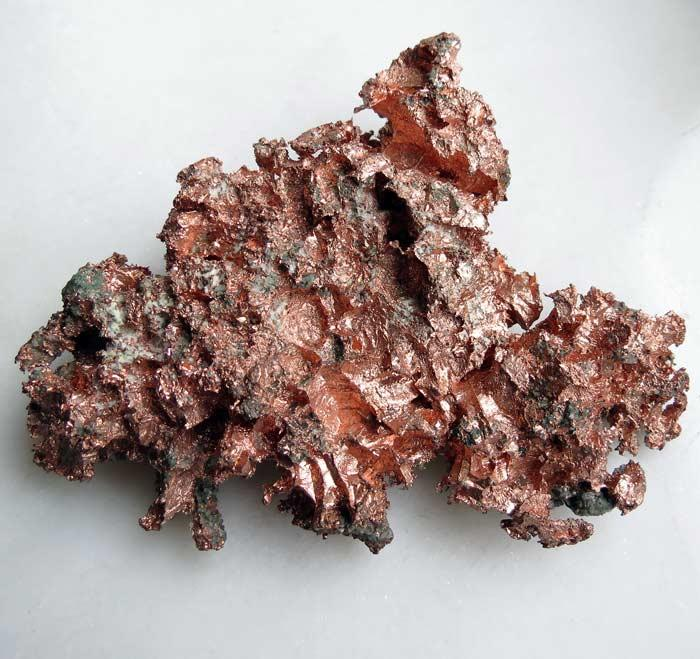copper: (16, 33, 690, 553)
